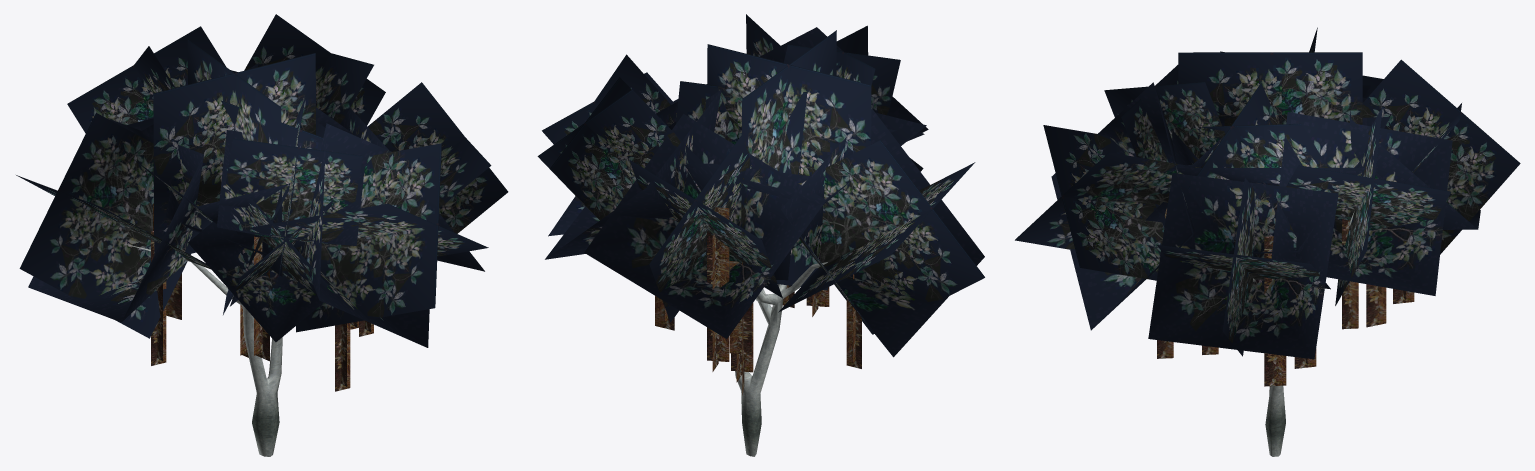
Rendered from decd_tallbirchb_l0.fbx.
3 renders of one model, left to right at view 1: azimuth 30°, elevation 25°; view 2: azimuth 150°, elevation 25°; view 3: azimuth 270°, elevation 25°, orthographic. The views are drawn at different scales.
Parts seen in each view (by area): view 1: mesh_node; view 2: mesh_node; view 3: mesh_node.
Part boxes in pixels (left/top/right/bottom): mesh_node: left=16, top=14, right=508, bottom=456; mesh_node: left=537, top=14, right=984, bottom=456; mesh_node: left=1015, top=27, right=1520, bottom=456.
Bounding box in the file's own units: 69.81 × 57.68 × 68.57.
